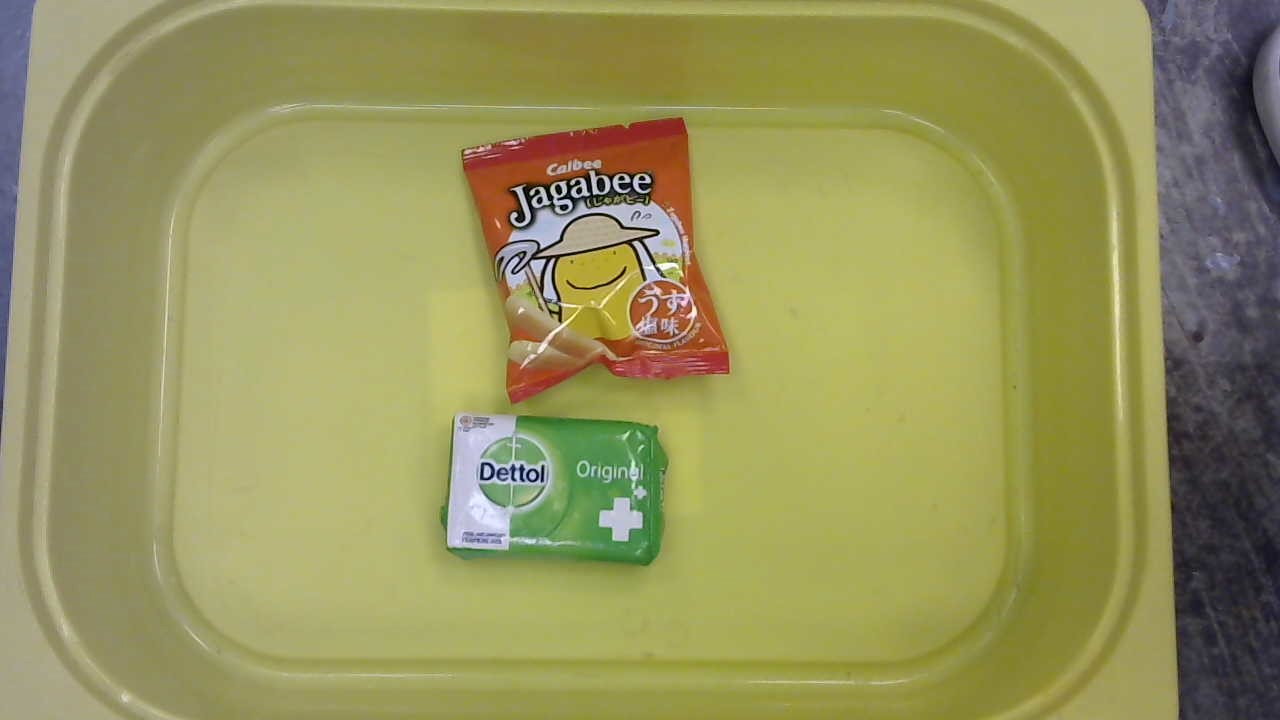Dettol: (440, 409, 670, 573)
JagabeeFarmer: (444, 115, 743, 409)
